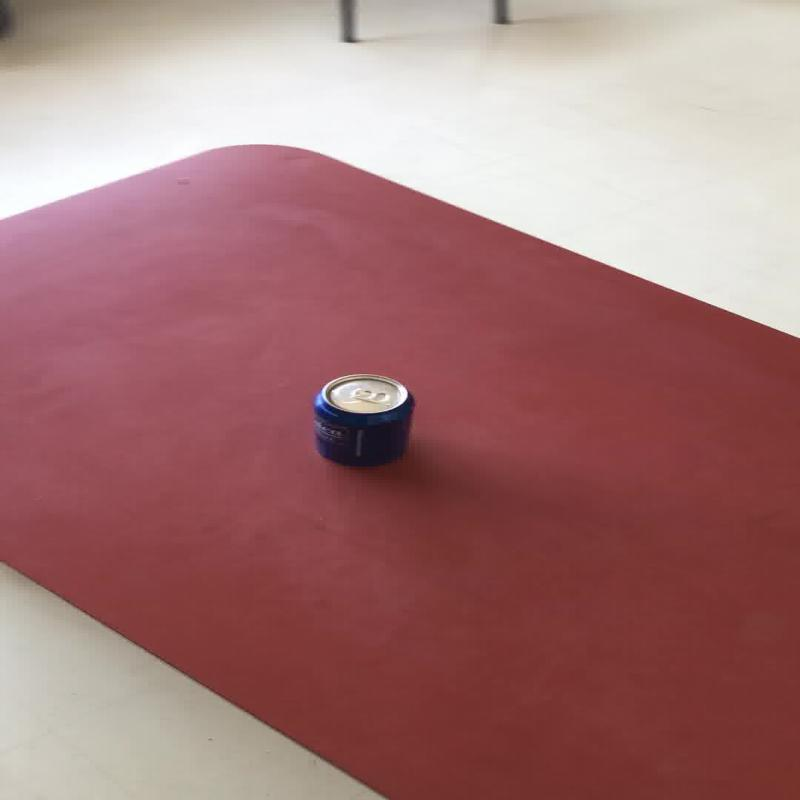tonic: (310, 372, 414, 466)
